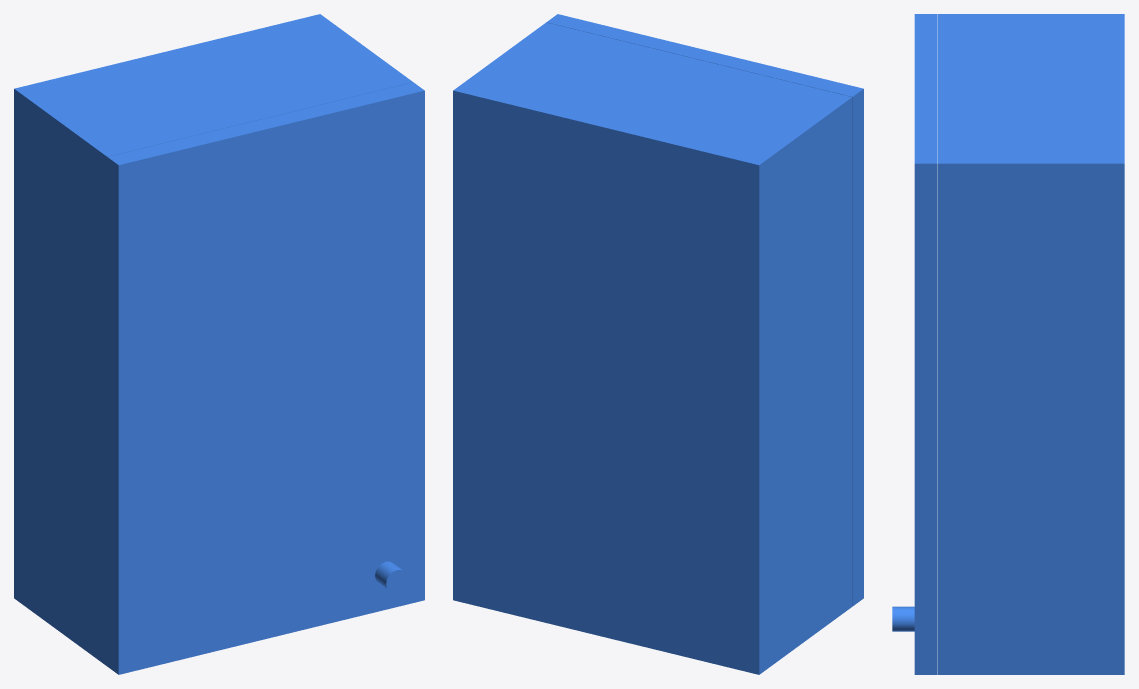
File: Top_Cabinet_R.fbx
3 views of the same model, side by side, from view 1: azimuth 30°, elevation 25°; view 2: azimuth 150°, elevation 25°; view 3: azimuth 270°, elevation 25° (orthographic).
Visible parts, largest first — view 1: Top_Cabinet_R_Door, Top_Cabinet_R; view 2: Top_Cabinet_R, Top_Cabinet_R_Door; view 3: Top_Cabinet_R, Top_Cabinet_R_Door.
Part boxes in pixels (bbox=[...]): Top_Cabinet_R_Door: bbox=[107, 82, 424, 674]; Top_Cabinet_R: bbox=[14, 14, 412, 666]; Top_Cabinet_R: bbox=[453, 22, 852, 674]; Top_Cabinet_R_Door: bbox=[546, 14, 863, 606]; Top_Cabinet_R: bbox=[938, 14, 1124, 674]; Top_Cabinet_R_Door: bbox=[892, 14, 937, 674].
Size of the model in its own units: 56.59 by 90.05 by 37.08.
